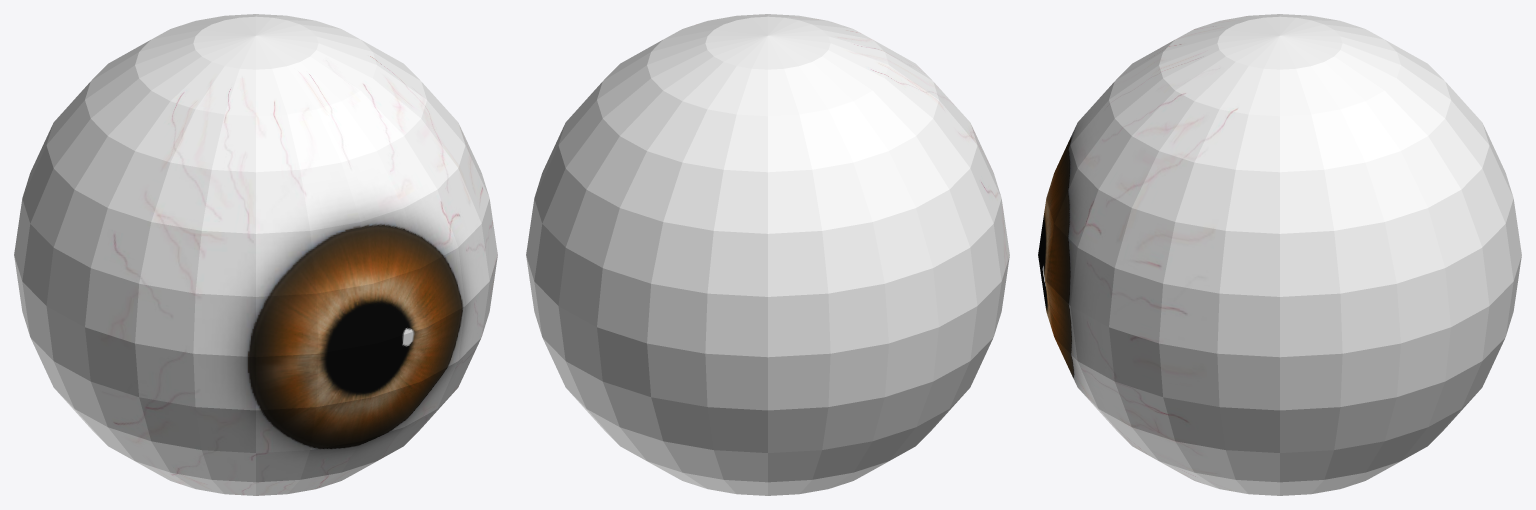
Rendered from eye.obj.
3 views of the same model, side by side, from view 1: azimuth 30°, elevation 25°; view 2: azimuth 150°, elevation 25°; view 3: azimuth 270°, elevation 25° (orthographic).
Visible parts, largest first — view 1: eye; view 2: eye; view 3: eye.
Boxes of the visible parts, bbox=[...] form: eye: bbox=[14, 14, 497, 495]; eye: bbox=[526, 14, 1009, 495]; eye: bbox=[1038, 14, 1521, 495].
Size of the model in its own units: 6 by 6 by 6.
1 material, 1 textured.
